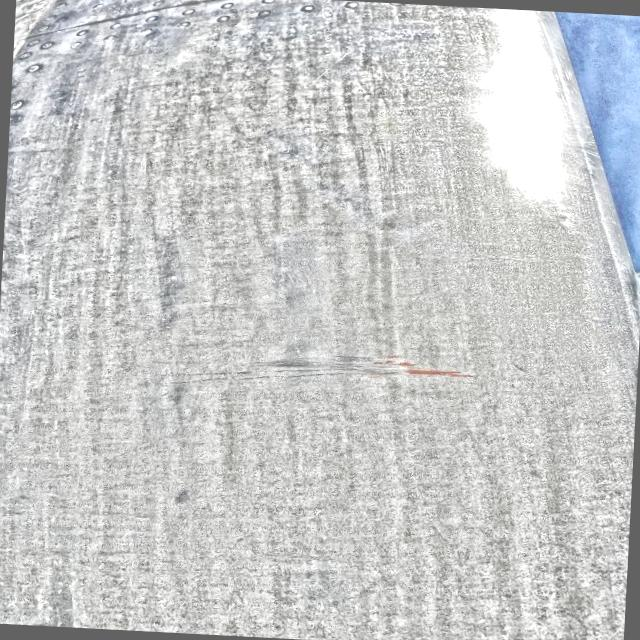crack: (132, 350, 428, 396)
